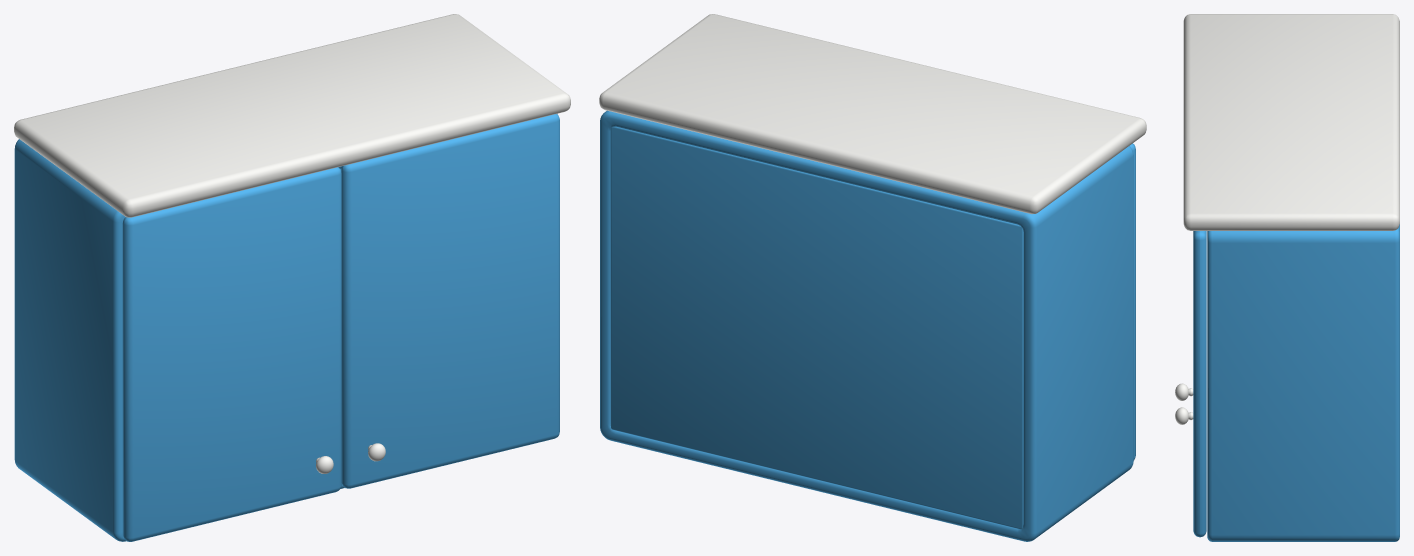
Rendered from armario_parede_2portas_verde_azul.glb.
3 views of the same model, side by side, from view 1: azimuth 30°, elevation 25°; view 2: azimuth 150°, elevation 25°; view 3: azimuth 270°, elevation 25° (orthographic). The views are drawn at different scales.
Visible parts, largest first — view 1: armario_parede_2portas_verde_azul, porta_1, porta_2; view 2: armario_parede_2portas_verde_azul, porta_1; view 3: armario_parede_2portas_verde_azul, porta_2.
Boxes of the visible parts, left/top/right/bottom form: armario_parede_2portas_verde_azul: left=14, top=14, right=570, bottom=541; porta_1: left=122, top=167, right=341, bottom=541; porta_2: left=341, top=114, right=559, bottom=488; armario_parede_2portas_verde_azul: left=599, top=14, right=1146, bottom=541; porta_1: left=1129, top=143, right=1135, bottom=460; armario_parede_2portas_verde_azul: left=1183, top=14, right=1399, bottom=541; porta_2: left=1175, top=231, right=1206, bottom=537.
Size of the model in its own units: 0.798 by 0.6 by 0.37.
Materials: 1 (1 with a texture image).
